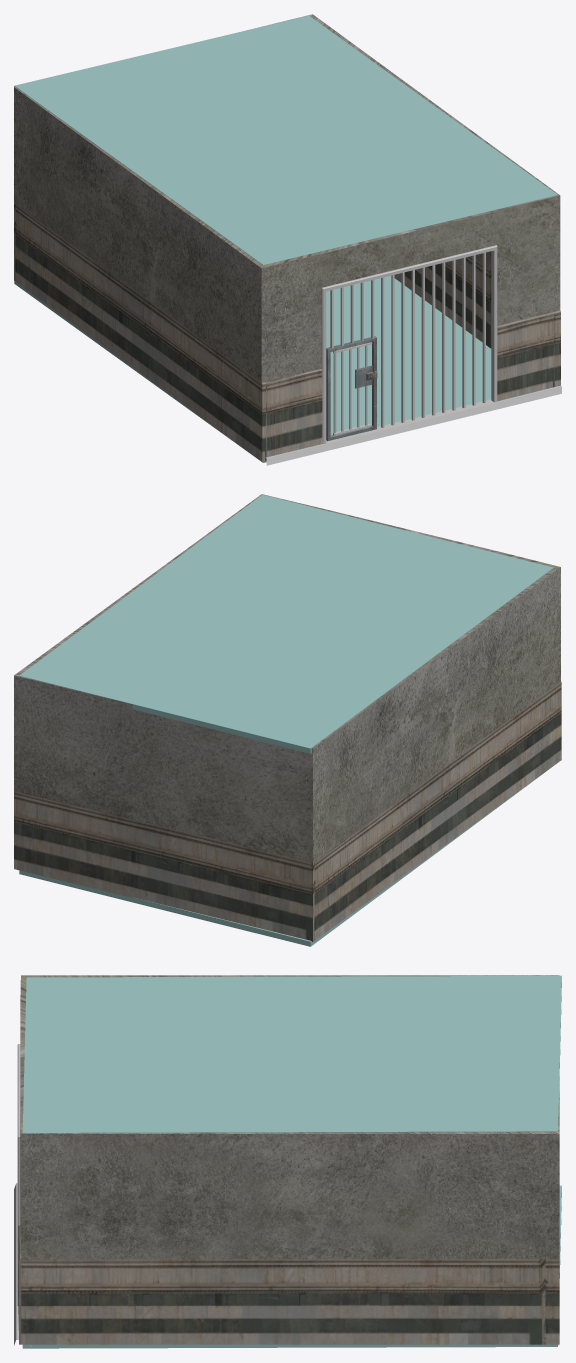
The model's file is PrisonRoom.fbx.
3 renders of one model, top to bottom at view 1: azimuth 30°, elevation 25°; view 2: azimuth 150°, elevation 25°; view 3: azimuth 270°, elevation 25°, orthographic. The views are drawn at different scales.
Visible parts, largest first — view 1: PrisonRoom, PrisonRoof, PrisonFloor, PrisonRods, PrisonMetalLayout, PrisonMetalBar, Gate, Door, DoorRotater; view 2: PrisonRoom, PrisonRoof, PrisonFloor; view 3: PrisonRoom, PrisonRoof, PrisonFloor, PrisonMetalBar, PrisonMetalLayout.
Boxes of the visible parts, x1,y1,x2,y2 form: PrisonRoom: (14, 14, 560, 462); PrisonRoof: (14, 15, 557, 265); PrisonFloor: (14, 275, 491, 462); PrisonRods: (330, 252, 485, 427); PrisonMetalLayout: (266, 385, 561, 465); PrisonMetalBar: (321, 245, 497, 443); Gate: (326, 336, 376, 441); Door: (341, 345, 367, 431); DoorRotater: (333, 342, 372, 435); PrisonRoom: (14, 494, 561, 941); PrisonRoof: (19, 494, 553, 753); PrisonFloor: (19, 772, 544, 946); PrisonRoom: (18, 975, 559, 1344); PrisonRoof: (22, 975, 561, 1133); PrisonFloor: (22, 1185, 561, 1348); PrisonMetalBar: (17, 1044, 20, 1305); PrisonMetalLayout: (14, 1183, 31, 1346).
Size of the model in its own units: 606 by 384 by 884.
